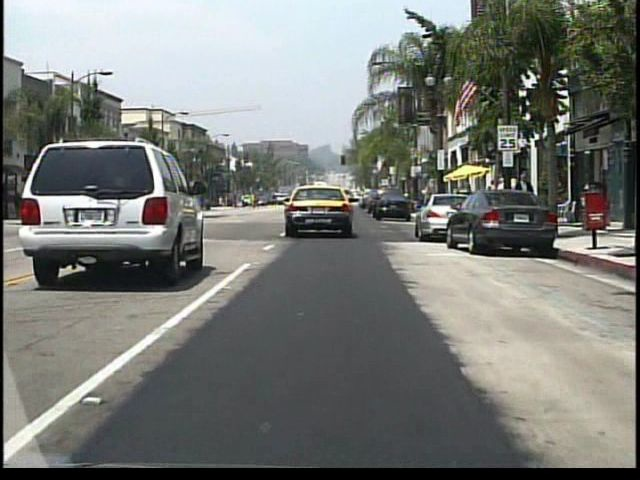person: (512, 171, 535, 224), (521, 178, 536, 219), (499, 178, 514, 219), (511, 181, 524, 217), (269, 191, 277, 206)
